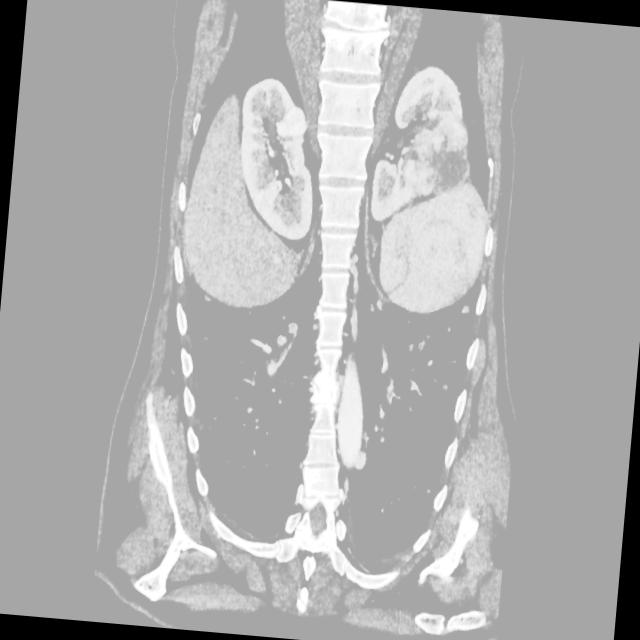TUMOR: (109, 92, 548, 463)
